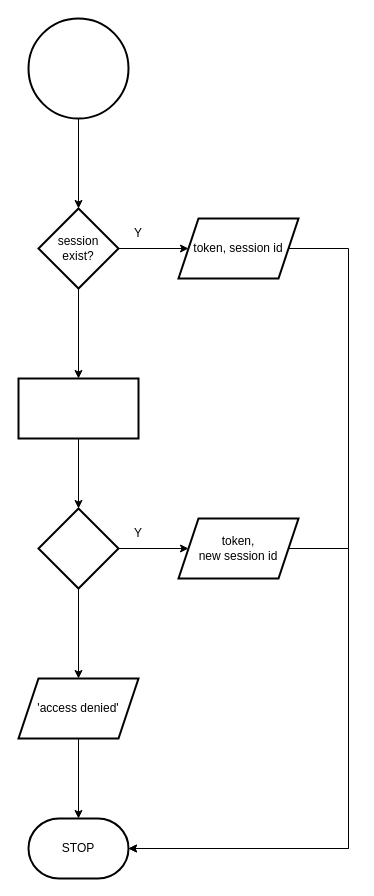
Image size: 374x896. Some labels were removed from this diagram. The shapes that lost their labels are listed below. From the top down, each one's box as (x1, y1, x2, y2) in pixels, then its label:
(27, 17, 129, 119): START
(17, 377, 139, 439): check 2 session exist
(37, 507, 119, 589): session <2?
